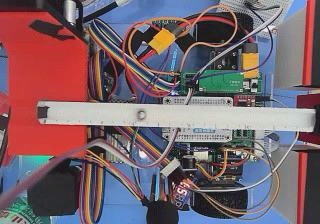ironball: (136, 108, 147, 119)
